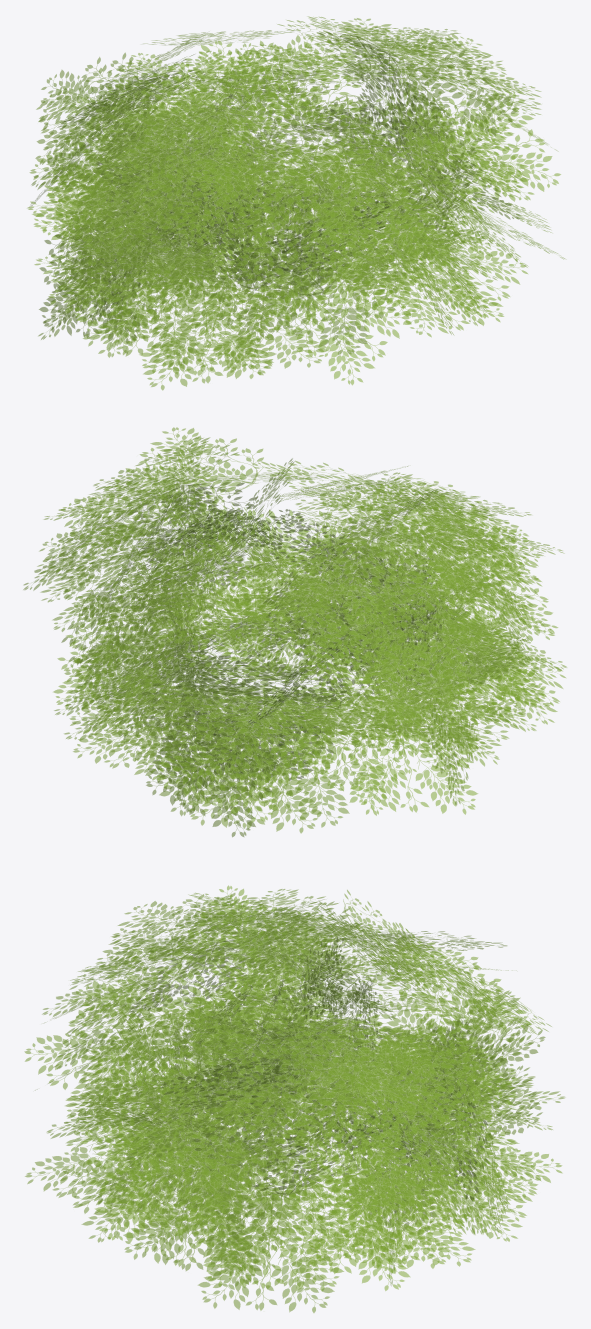
The model's file is Low_Poly_Shrub_-_Small_Texture.glb.
The picture shows the model from 3 angles, top to bottom: view 1: azimuth 30°, elevation 25°; view 2: azimuth 150°, elevation 25°; view 3: azimuth 270°, elevation 25°; orthographic projection. The views are drawn at different scales.
Parts seen in each view (by area): view 1: leaves_gbushy_0; view 2: leaves_gbushy_0; view 3: leaves_gbushy_0.
Boxes of the visible parts, left/top/right/bottom form: leaves_gbushy_0: left=27, top=16, right=564, bottom=390; leaves_gbushy_0: left=23, top=427, right=566, bottom=837; leaves_gbushy_0: left=24, top=885, right=564, bottom=1312.
Size of the model in its own units: 4.17 by 2.37 by 3.88.
1 material, 1 textured.
